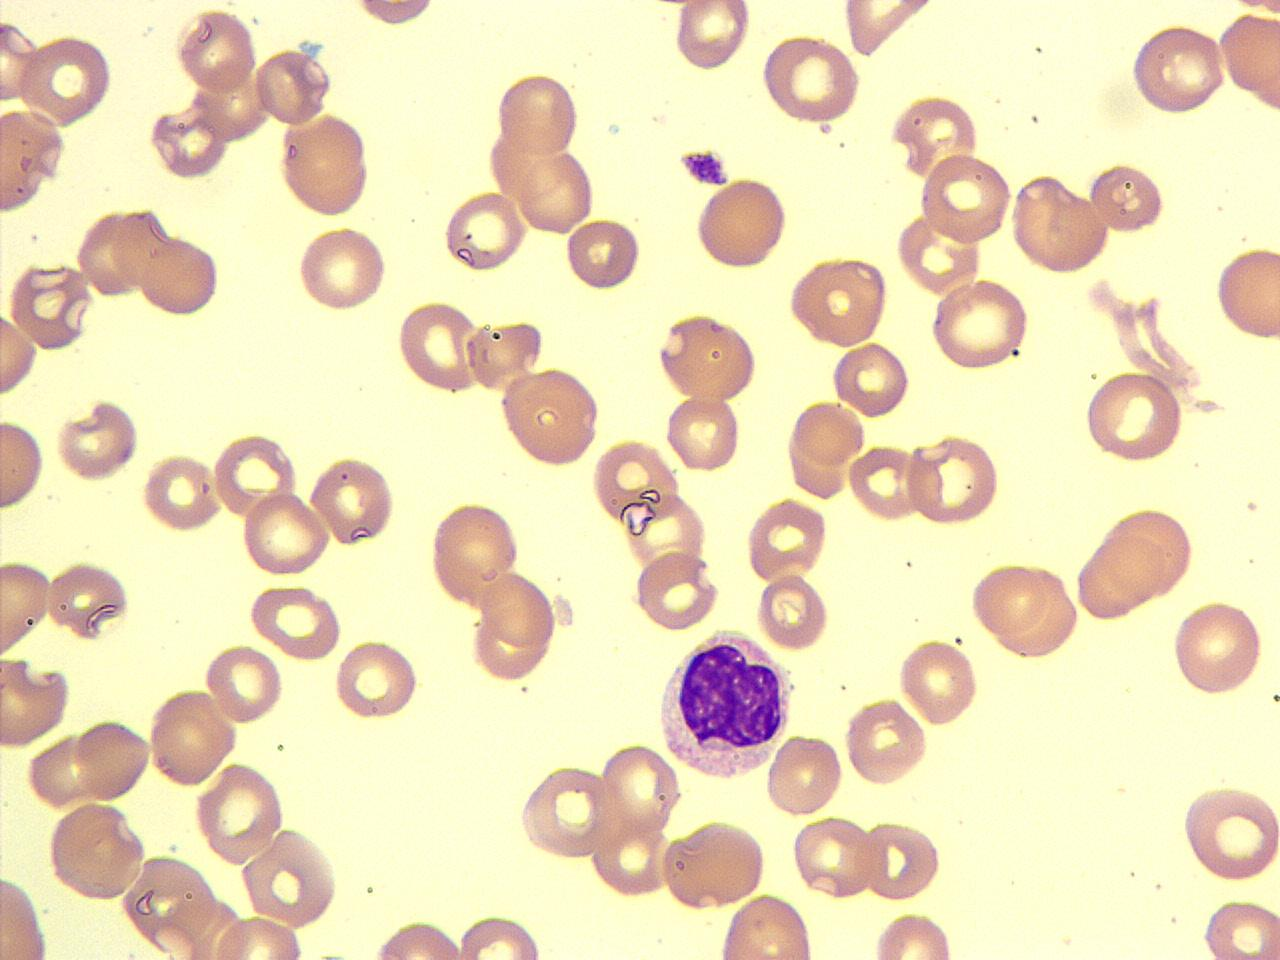Platelets: (677, 147, 730, 188)
RBC: (590, 436, 687, 566), (967, 557, 1081, 656), (497, 366, 602, 469), (276, 110, 373, 220), (429, 498, 523, 611), (239, 826, 341, 930), (1009, 172, 1111, 276), (1179, 779, 1279, 885), (45, 800, 149, 901), (657, 818, 767, 912), (655, 309, 761, 405), (786, 253, 894, 348), (191, 759, 287, 865), (927, 278, 1033, 373), (758, 31, 862, 127), (1082, 370, 1186, 466), (1169, 596, 1265, 700), (121, 852, 219, 952), (515, 763, 615, 861), (615, 474, 711, 576), (1098, 504, 1198, 600), (147, 686, 239, 790), (906, 431, 1002, 529), (1129, 22, 1229, 117), (693, 175, 789, 272), (918, 152, 1014, 246), (596, 740, 683, 842), (307, 452, 398, 550), (23, 32, 116, 127), (294, 224, 391, 314), (239, 488, 332, 579), (6, 258, 95, 353), (397, 297, 482, 396), (210, 429, 299, 521), (842, 694, 928, 789), (888, 90, 980, 177), (44, 556, 134, 644), (790, 813, 880, 901), (896, 635, 980, 729), (55, 394, 143, 483), (333, 634, 421, 722), (174, 4, 258, 97), (495, 71, 582, 159), (137, 228, 222, 319), (75, 205, 154, 301), (441, 187, 526, 276), (247, 582, 344, 659), (630, 550, 721, 632), (744, 497, 828, 583), (716, 889, 818, 960), (0, 106, 65, 218), (1217, 8, 1279, 123), (73, 713, 152, 803), (765, 730, 845, 820), (861, 816, 942, 902), (0, 655, 73, 751), (846, 440, 928, 523), (139, 452, 223, 534), (204, 642, 285, 727), (148, 100, 230, 183), (480, 568, 558, 651), (463, 315, 547, 392), (518, 149, 594, 236), (664, 392, 744, 474), (1213, 243, 1279, 342), (253, 45, 334, 125), (831, 340, 912, 419), (562, 215, 644, 293), (754, 570, 831, 652), (838, 1, 942, 61), (1087, 159, 1167, 237), (112, 205, 174, 298), (0, 557, 56, 659), (25, 732, 102, 808), (671, 2, 753, 72), (1199, 895, 1279, 960), (792, 398, 866, 468), (0, 864, 53, 958), (0, 414, 46, 514), (869, 907, 956, 959), (208, 914, 308, 958), (455, 912, 543, 959), (366, 917, 465, 959), (0, 15, 45, 107), (0, 309, 40, 399), (345, 0, 440, 30)
WBC: (654, 626, 798, 784)
